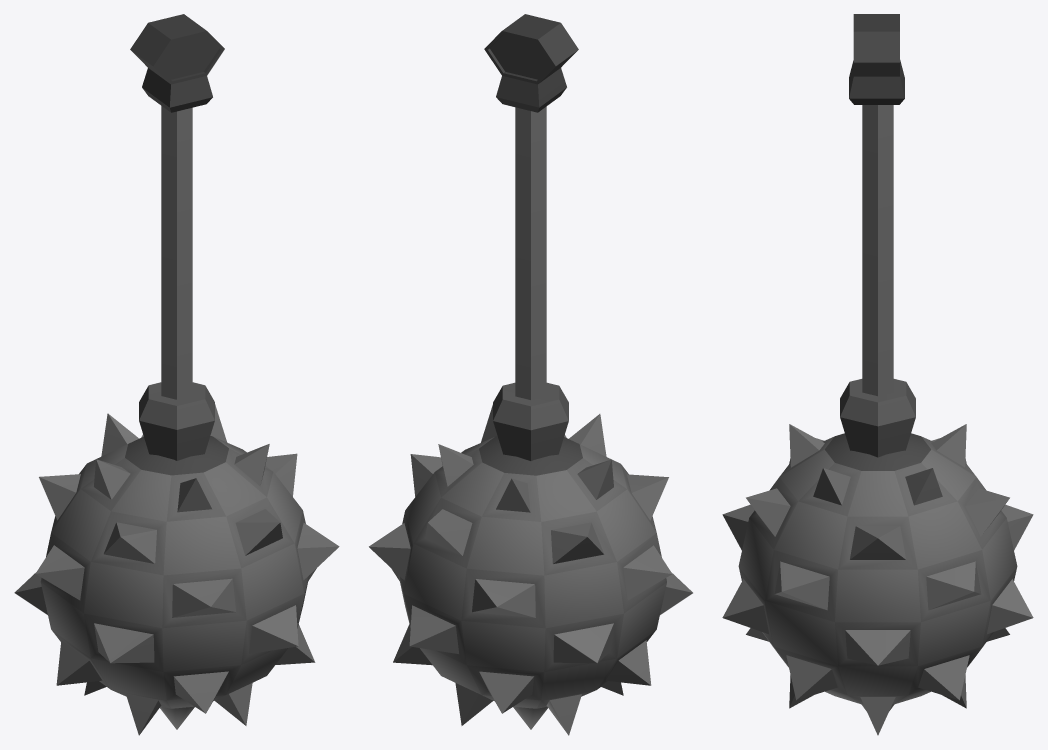
The model's file is Mace.fbx.
3 views of the same model, side by side, from view 1: azimuth 30°, elevation 25°; view 2: azimuth 150°, elevation 25°; view 3: azimuth 270°, elevation 25° (orthographic).
Visible parts, largest first — view 1: Mace; view 2: Mace; view 3: Mace.
Boxes of the visible parts, x1=… form: Mace: x1=14, y1=14, x2=339, y2=735; Mace: x1=369, y1=14, x2=692, y2=735; Mace: x1=722, y1=14, x2=1033, y2=735.
Size of the model in its own units: 114 by 270 by 108.
1 material, 1 textured.
